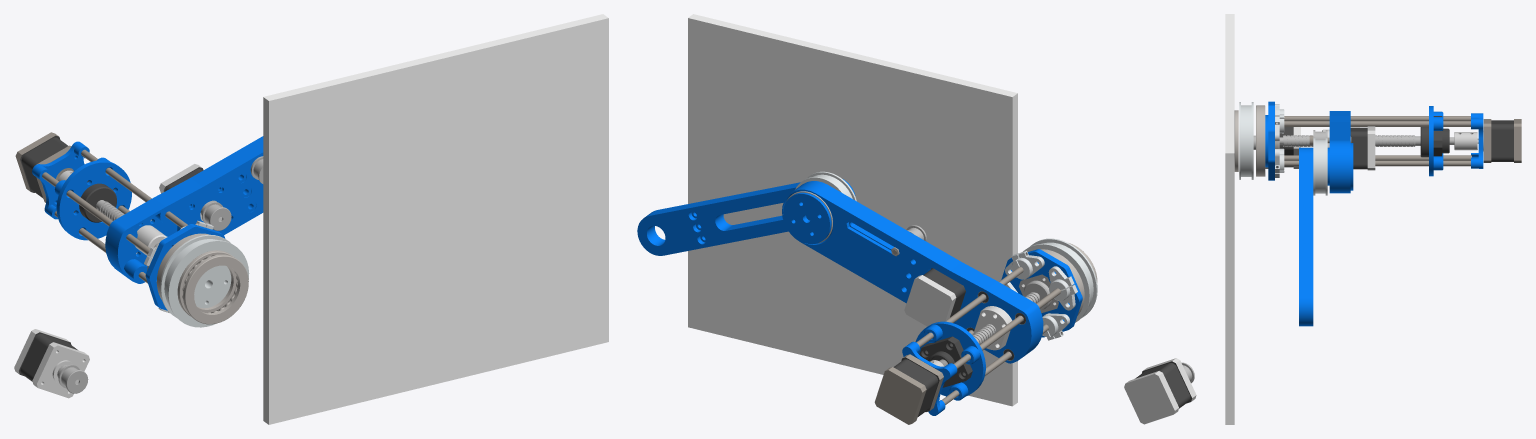
3 renders of one model, left to right at view 1: azimuth 30°, elevation 25°; view 2: azimuth 150°, elevation 25°; view 3: azimuth 270°, elevation 25°, orthographic. The views are drawn at different scales.
Visible parts, largest first — view 1: Í¹Ì¨-ÀÉì1 (×3), ÇÐ³ý-ÀÉì7, ÊäÈë1 (×2), µ¹½Ç1 (×2), ÇÐ³ý-ÀÉì1, Fillet1, Ô²½Ç1 (×3), Í¹Ì¨-ÀÉì3, ÇÐ³ý-ÀÉì8; view 2: Í¹Ì¨-ÀÉì1 (×3), ÊäÈë1 (×3), ÇÐ³ý-ÀÉì8, ÇÐ³ý-ÀÉì2 (×2), µ¹½Ç1 (×4), ÇÐ³ý-ÀÉì7, ÇÐ³ý-ÀÉì1 (×3), M4 ÂÝÎÆ¿×1 (×3), Ô²½Ç1, Í¹Ì¨-ÀÉì3; view 3: Í¹Ì¨-ÀÉì1 (×5), ÇÐ³ý-ÀÉì2 (×3), ÊäÈë1 (×3), ÇÐ³ý-ÀÉì1 (×2), ÇÐ³ý-ÀÉì8, µ¹½Ç1 (×2), Fillet1 (×2), ÇÐ³ý-É¨Ãè1, Ô²½Ç1, Í¹Ì¨-ÀÉì3, ÇÐ³ý-ÀÉì7.
Boxes of the visible parts, x1,y1,x2,y2 form: Í¹Ì¨-ÀÉì1 (×3): (42, 14, 608, 424); ÇÐ³ý-ÀÉì7: (105, 158, 261, 283); ÊäÈë1 (×2): (14, 132, 89, 398); µ¹½Ç1 (×2): (54, 157, 131, 240); ÇÐ³ý-ÀÉì1: (160, 234, 249, 327); Fillet1: (177, 250, 248, 324); Ô²½Ç1 (×3): (57, 202, 231, 393); Í¹Ì¨-ÀÉì3: (32, 141, 89, 219); ÇÐ³ý-ÀÉì8: (219, 136, 263, 213); Í¹Ì¨-ÀÉì1 (×3): (688, 14, 1062, 406); ÊäÈë1 (×3): (874, 268, 1196, 424); ÇÐ³ý-ÀÉì8: (782, 181, 928, 303); ÇÐ³ý-ÀÉì2 (×2): (637, 179, 855, 255); µ¹½Ç1 (×4): (915, 274, 1058, 400); ÇÐ³ý-ÀÉì7: (916, 239, 1043, 363); ÇÐ³ý-ÀÉì1 (×3): (783, 171, 1097, 322); M4 ÂÝÎÆ¿×1 (×3): (1005, 251, 1077, 340); Ô²½Ç1: (1001, 249, 1082, 337); Í¹Ì¨-ÀÉì3: (902, 341, 957, 415); Í¹Ì¨-ÀÉì1 (×5): (1225, 14, 1471, 424); ÇÐ³ý-ÀÉì2 (×3): (1299, 132, 1477, 326); ÊäÈë1 (×3): (1265, 119, 1521, 170); ÇÐ³ý-ÀÉì1 (×2): (1239, 102, 1327, 195); ÇÐ³ý-ÀÉì8: (1329, 125, 1350, 193); µ¹½Ç1 (×2): (1420, 106, 1449, 176); Fillet1 (×2): (1234, 105, 1265, 176); ÇÐ³ý-É¨Ãè1: (1279, 135, 1454, 146); Ô²½Ç1: (1265, 101, 1274, 180); Í¹Ì¨-ÀÉì3: (1471, 113, 1483, 168); ÇÐ³ý-ÀÉì7: (1329, 111, 1350, 127).
Bounding box in the file's own units: 56.53 × 31.5 × 31.15.
